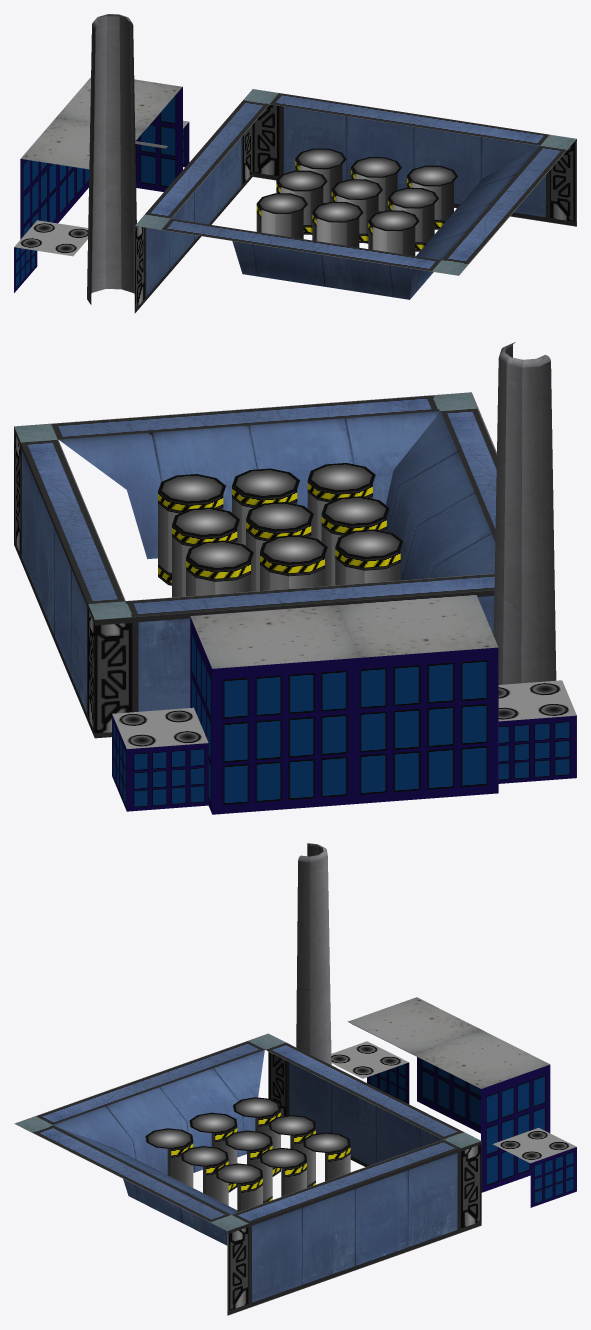
File: WasteManagementFacility.fbx
3 views of the same model, one above another, from view 1: azimuth 30°, elevation 25°; view 2: azimuth 150°, elevation 25°; view 3: azimuth 270°, elevation 25° (orthographic). The views are drawn at different scales.
Parts seen in each view (by area): view 1: polySurface6, polySurface17, polySurface16, polySurface5, polySurface25, polySurface19, polySurface22, polySurface24, polySurface23, polySurface18, polySurface21, polySurface20 (+2 smaller); view 2: polySurface6, polySurface16, polySurface17, polySurface4, polySurface5, polySurface19, polySurface18, polySurface9, polySurface23, polySurface20, polySurface22, polySurface21 (+2 smaller); view 3: polySurface6, polySurface16, polySurface17, polySurface4, polySurface5, polySurface25, polySurface24, polySurface23, polySurface9, polySurface20, polySurface21, polySurface18 (+2 smaller).
Part boxes in pixels (x1,y1,x2,y2): polySurface6: (134,89,576,313); polySurface17: (87,14,136,304); polySurface16: (20,77,182,239); polySurface5: (14,220,88,292); polySurface25: (368,210,419,256); polySurface19: (256,193,307,238); polySurface22: (312,201,363,247); polySurface24: (388,187,438,251); polySurface23: (407,165,457,229); polySurface18: (276,170,327,234); polySurface21: (331,179,382,243); polySurface20: (351,157,401,212); polySurface6: (14,392,496,738); polySurface16: (190,594,498,814); polySurface17: (493,342,556,684); polySurface4: (112,707,208,811); polySurface5: (498,680,576,783); polySurface19: (335,529,403,585); polySurface18: (260,535,327,590); polySurface9: (186,540,253,596); polySurface23: (158,474,225,585); polySurface20: (172,507,239,597); polySurface22: (321,496,389,585); polySurface21: (246,502,313,591); polySurface6: (14,1033,481,1315); polySurface16: (348,997,550,1192); polySurface17: (296,843,331,1064); polySurface4: (492,1127,576,1207); polySurface5: (331,1041,409,1103); polySurface25: (145,1128,193,1187); polySurface24: (180,1146,228,1205); polySurface23: (215,1163,262,1212); polySurface9: (302,1132,350,1181); polySurface20: (259,1148,306,1196); polySurface21: (224,1130,272,1203); polySurface18: (268,1115,315,1187).
Size of the model in its own units: 68.9 by 37.4 by 71.17.
